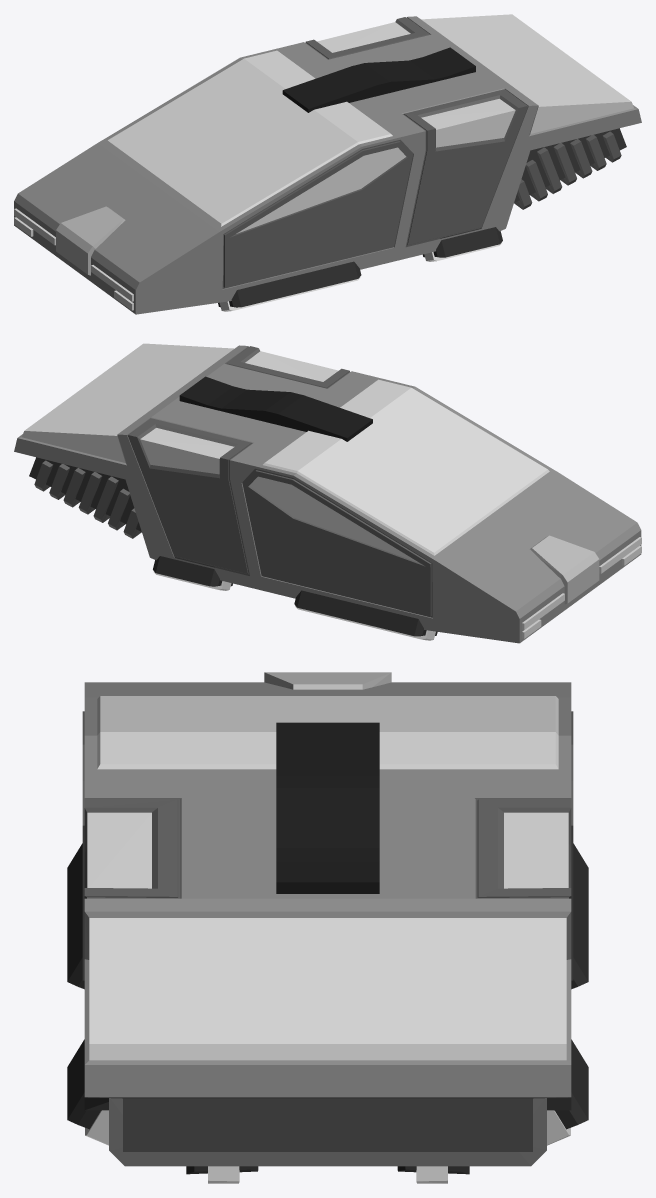
File: car_A.FBX
The picture shows the model from 3 angles, top to bottom: view 1: azimuth 30°, elevation 25°; view 2: azimuth 150°, elevation 25°; view 3: azimuth 270°, elevation 25°; orthographic projection. The views are drawn at different scales.
Parts seen in each view (by area): view 1: car_A, car_A_glass, car_A_glow; view 2: car_A, car_A_glass, car_A_glow; view 3: car_A, car_A_glass, car_A_glow.
Boxes of the visible parts, x1,y1,x2,y2 form: car_A: (14,16,641,314); car_A_glass: (105,14,633,233); car_A_glow: (14,208,501,311); car_A: (14,345,641,643); car_A_glass: (22,343,549,562); car_A_glow: (153,537,641,640); car_A: (67,672,588,1174); car_A_glass: (87,696,568,1060); car_A_glow: (85,1110,570,1183).
Bounding box in the file's own units: 254 × 72.41 × 113.
